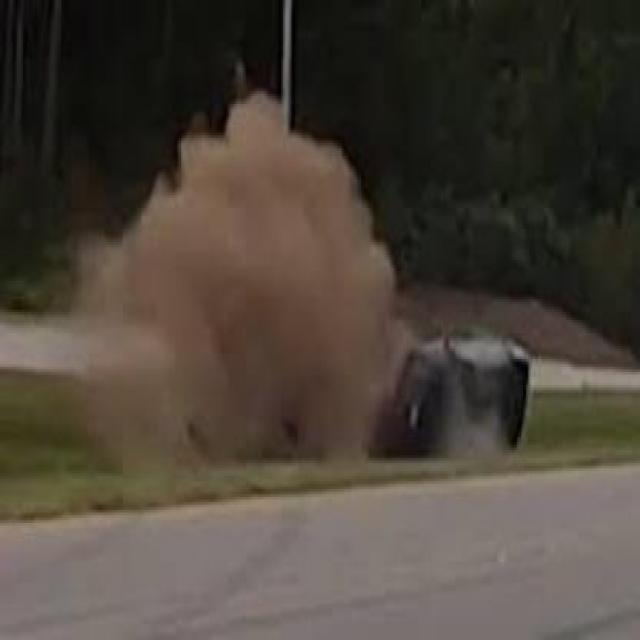accident: (370, 304, 542, 460)
